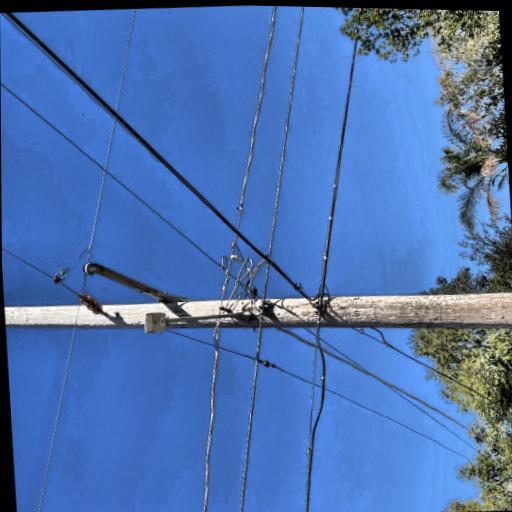pole: (32, 9, 129, 512)
street light: (69, 276, 98, 403)
